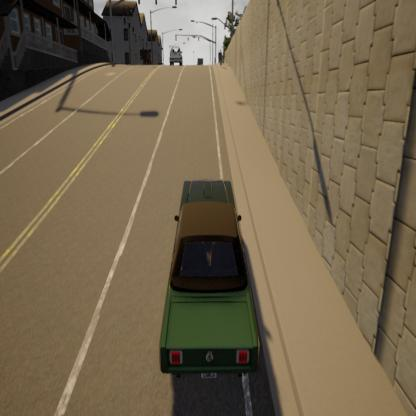Cars: (153, 156, 275, 416), (164, 34, 193, 86)
